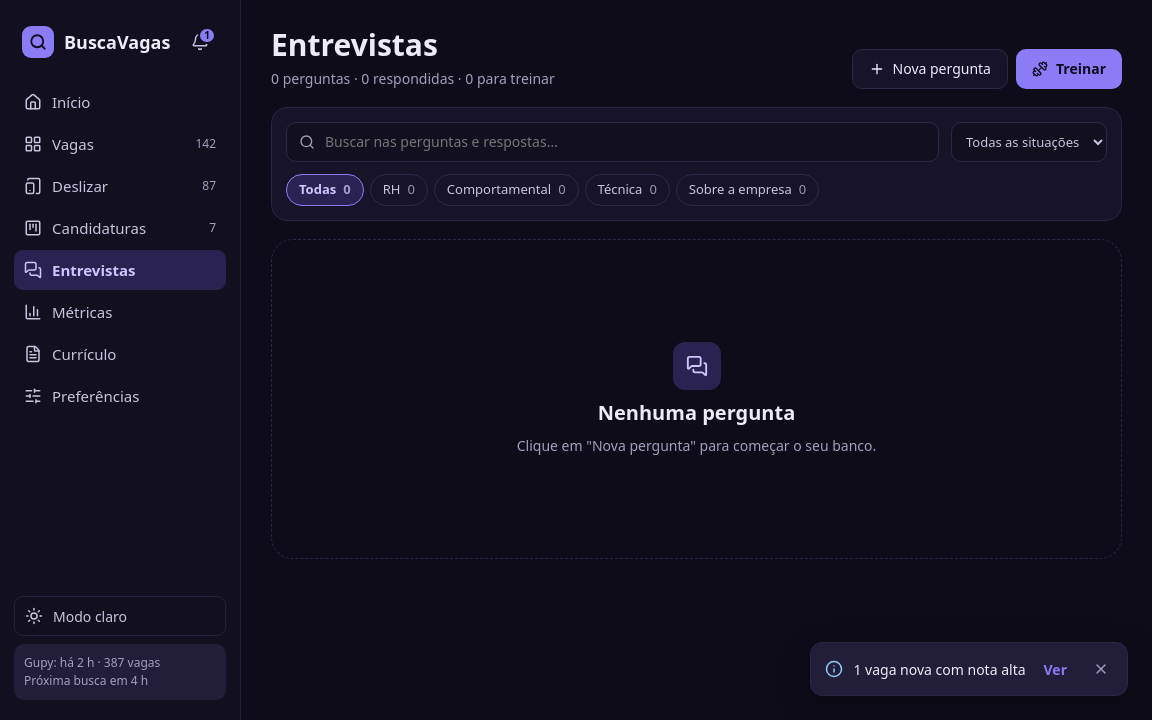
Test: Sino de avisos › aviso novo com o app aberto vira toast com "Ver"
The width and height of the screenshot is (1152, 720).
Expected: the text "1 vaga nova com nota alta" is shown, [853,658,1026,680]
Click the button "Ver": (1055, 669) [1036,653,1075,685]
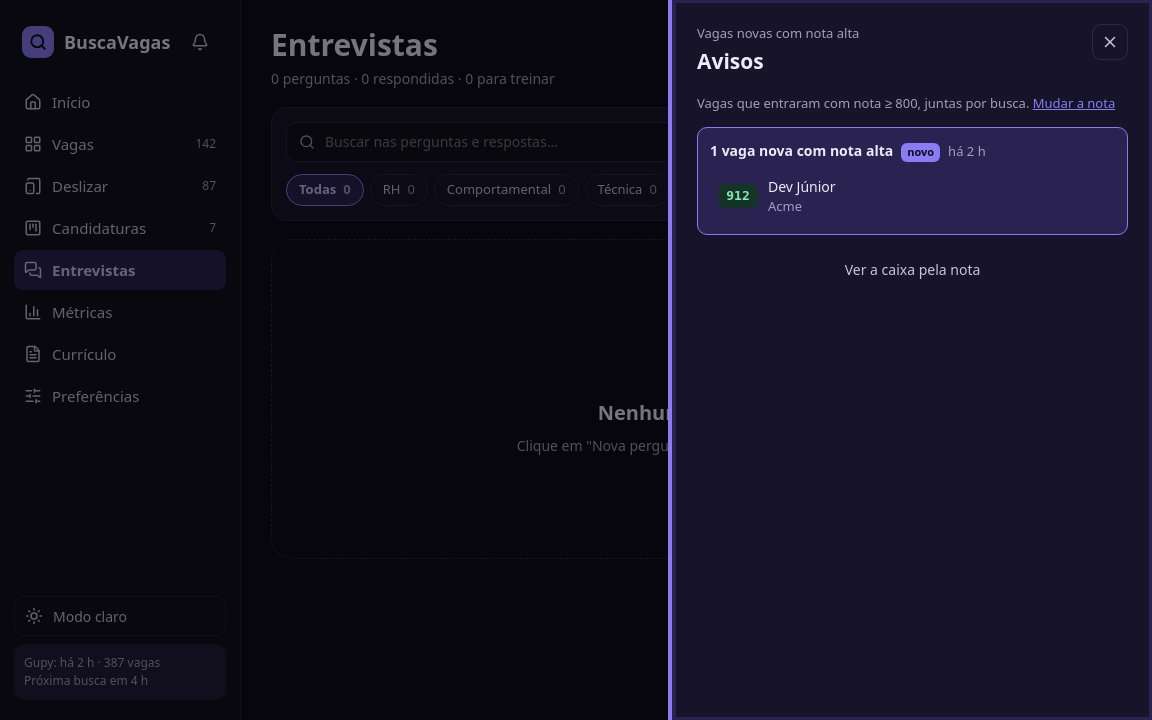
Now the dialog "Avisos" is shown, box [672,0,1151,719]
